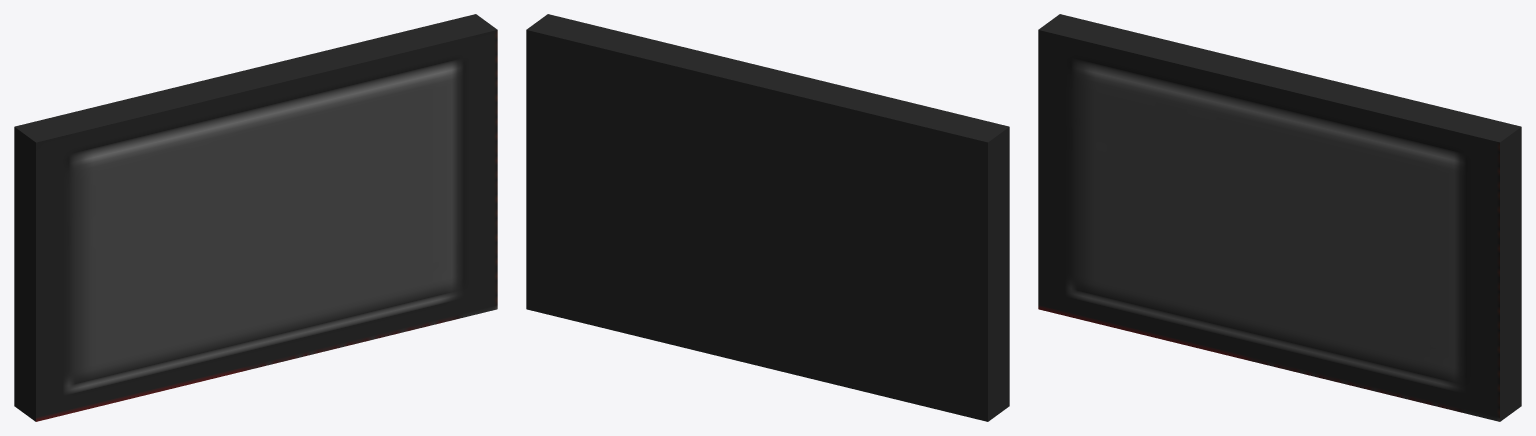
The model's file is GrandTV.fbx.
3 renders of one model, left to right at view 1: azimuth 30°, elevation 25°; view 2: azimuth 150°, elevation 25°; view 3: azimuth 330°, elevation 25°, orthographic.
Parts seen in each view (by area): view 1: TV; view 2: TV; view 3: TV.
Boxes of the visible parts, <box> form: TV: <box>14,14,497,421</box>; TV: <box>526,14,1009,421</box>; TV: <box>1038,14,1521,421</box>.
Size of the model in its own units: 2.38 by 1.37 by 0.193.
